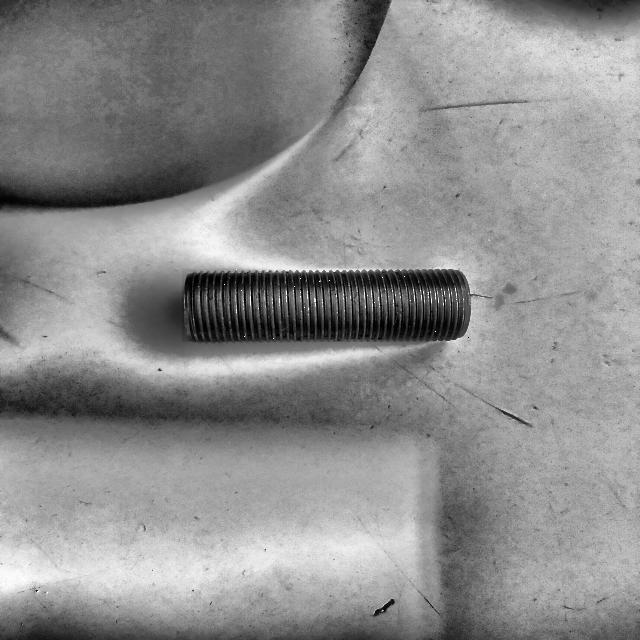Normal: (182, 269, 471, 342)
